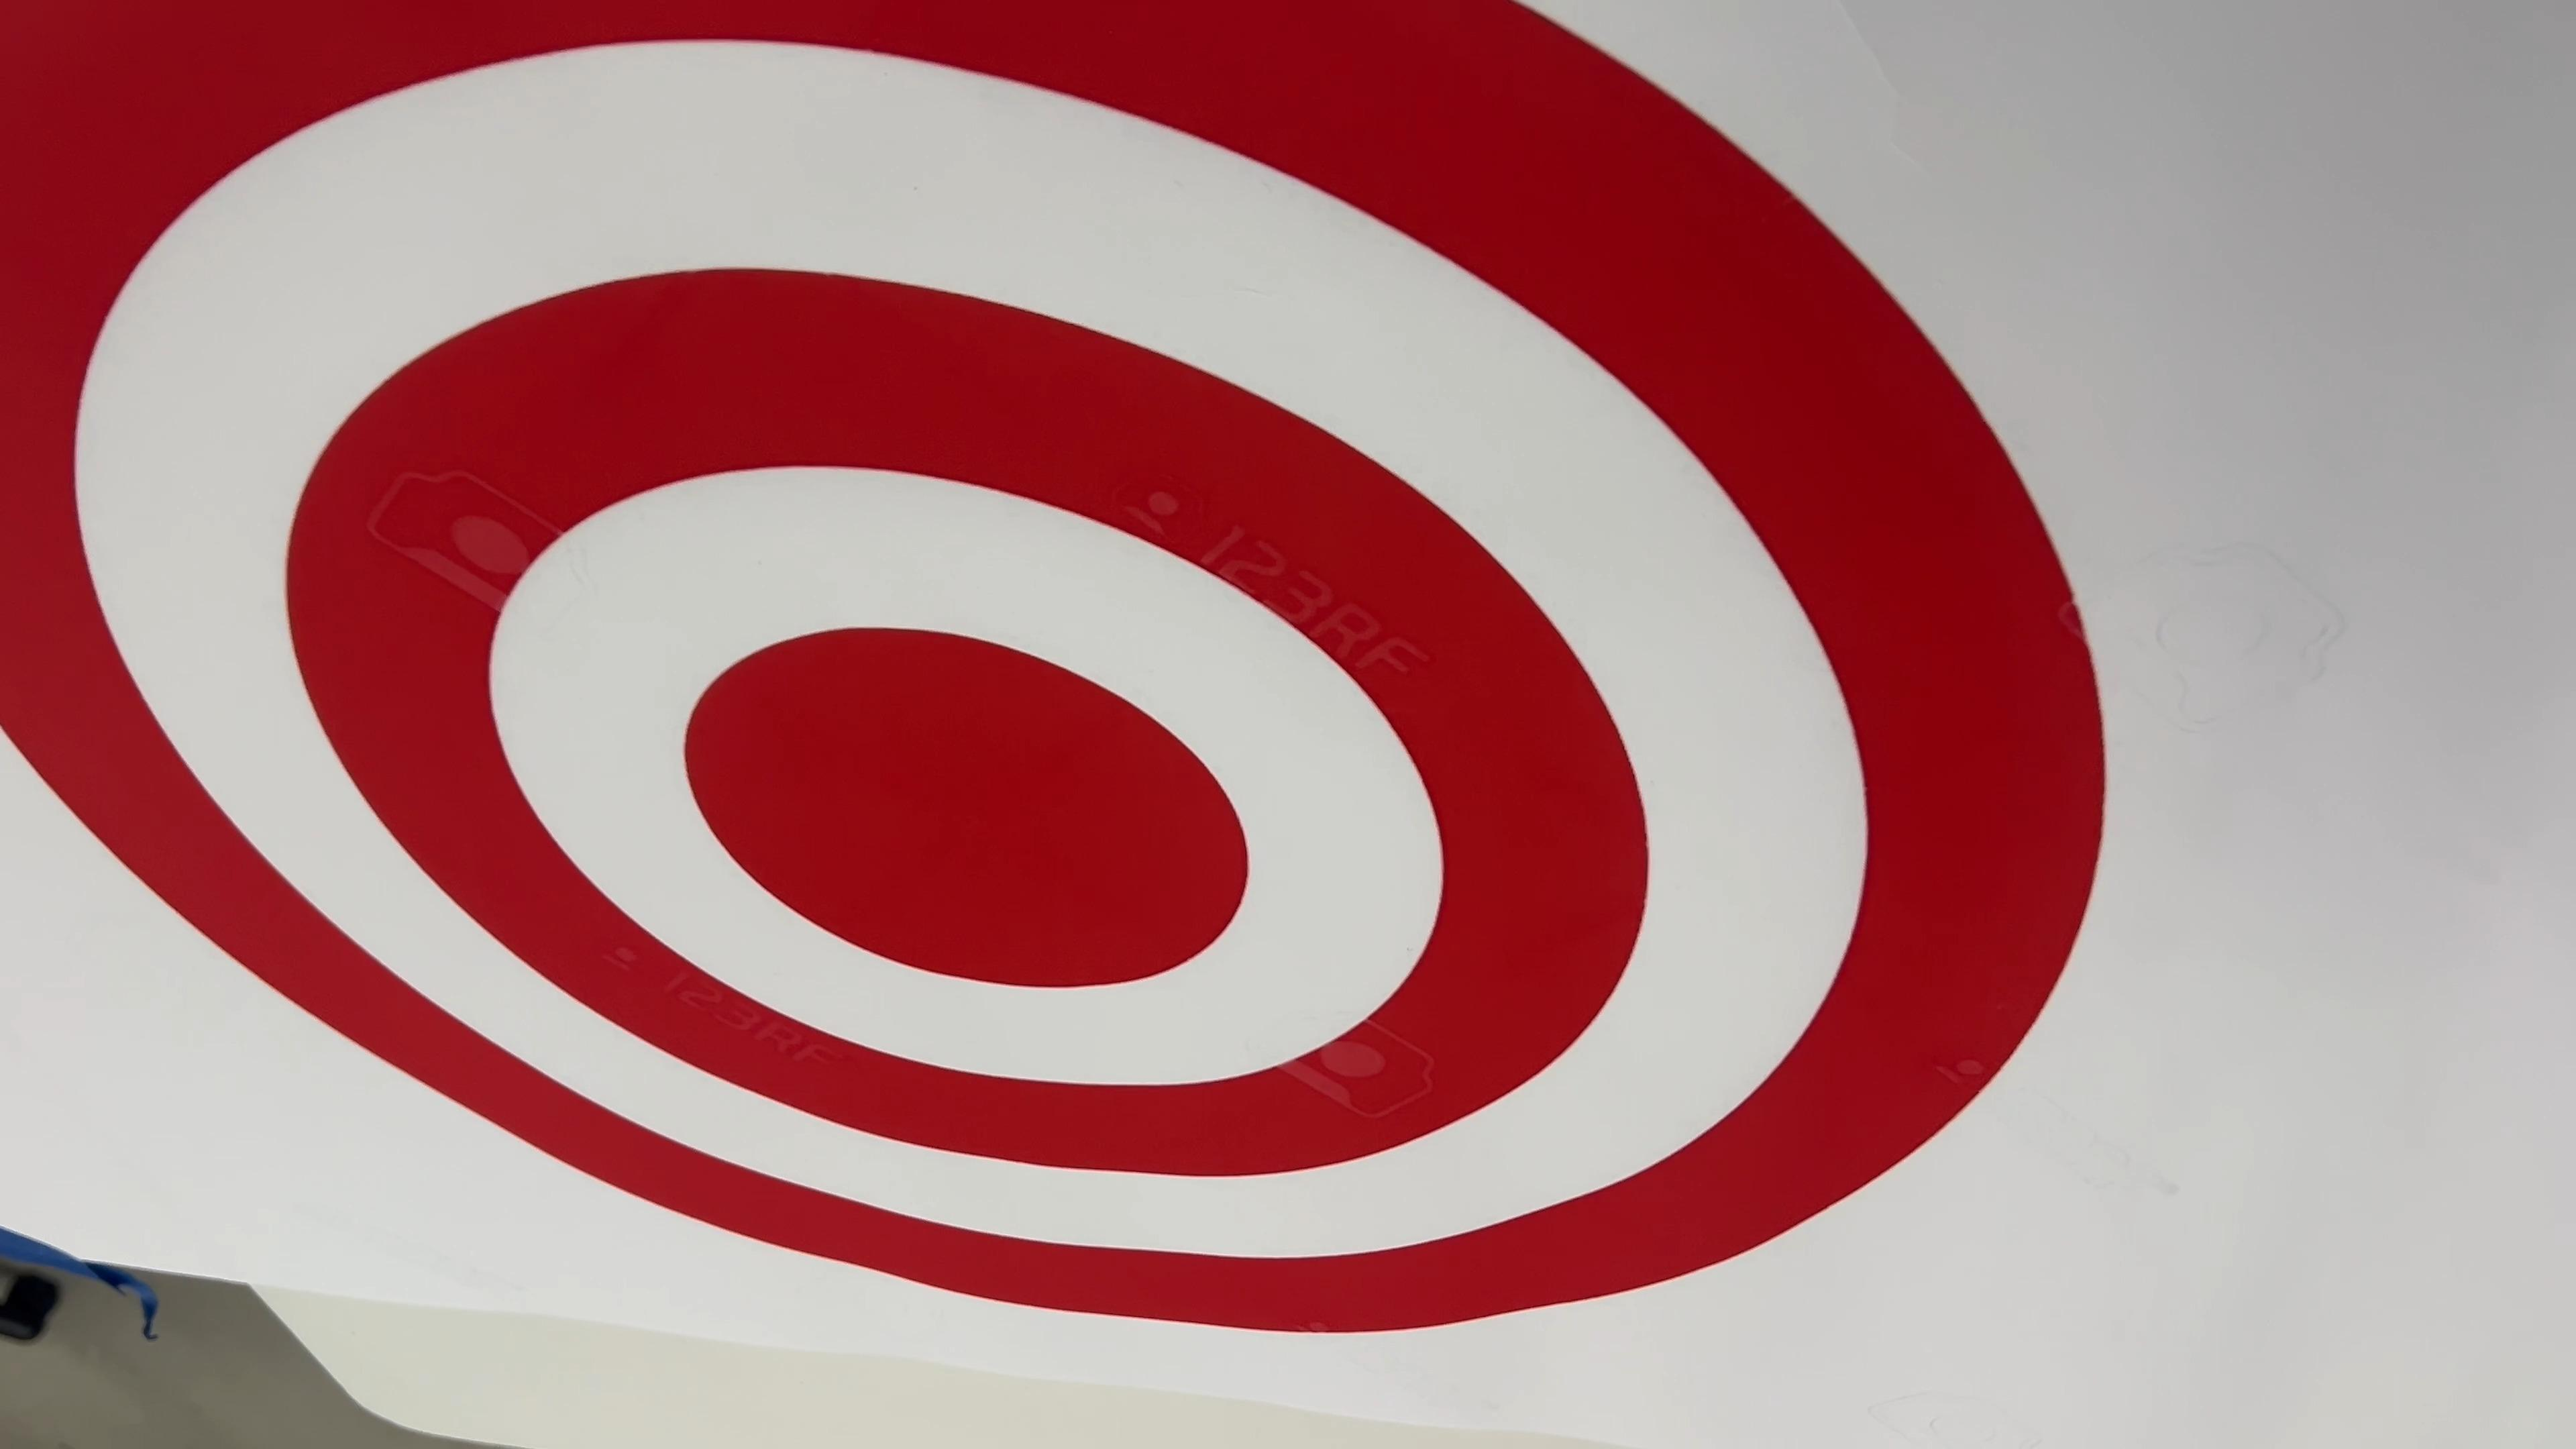target_red: (0, 0, 2212, 1407)
